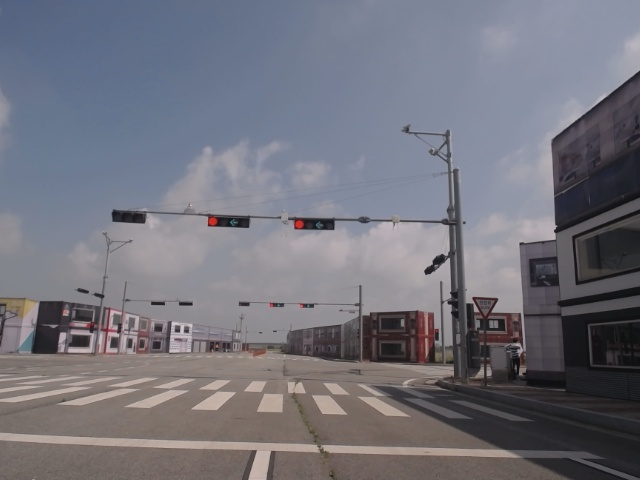left_green_4: (207, 216, 250, 228), (294, 219, 335, 231)
